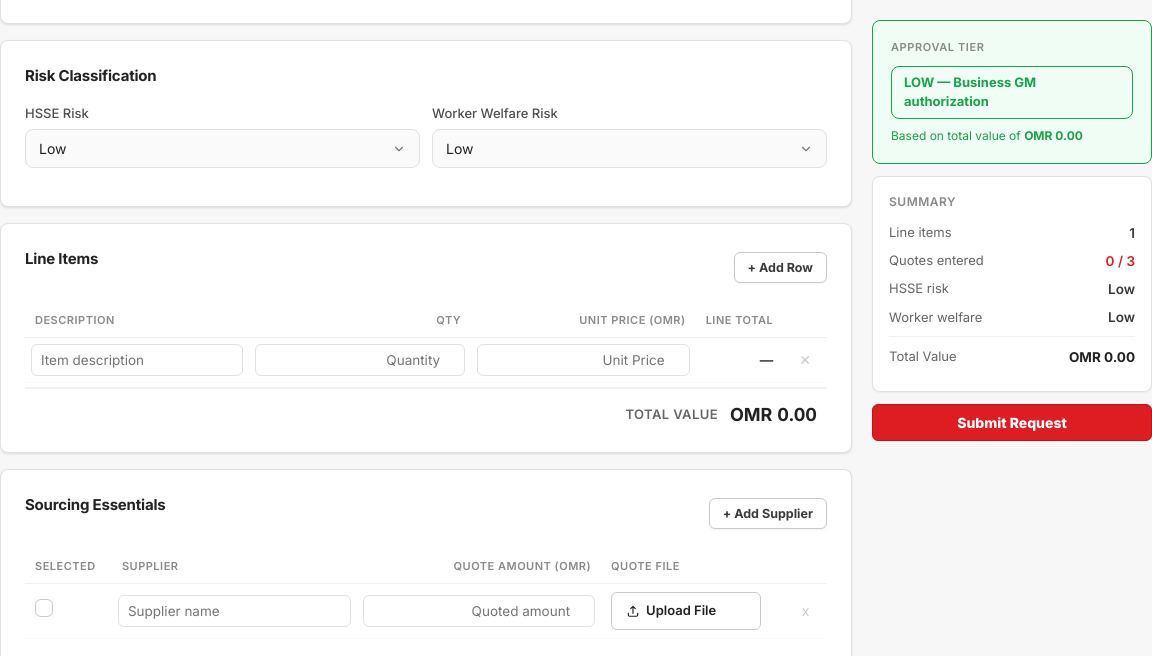
Test: shows HIGH tier badge when total exceeds 300000
The image size is (1152, 656).
(page scrolled)
Type "1" into the number field with placeholder "Quantity" at (360, 360), box [255,344,465,376]
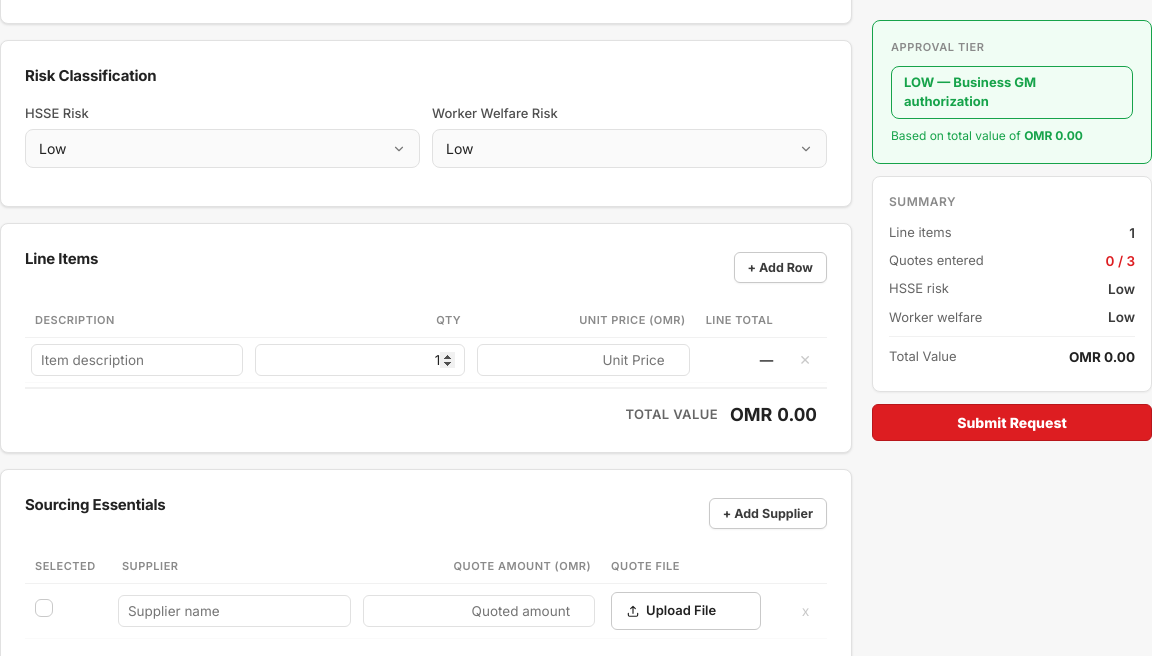
Type "500000" into the number field with placeholder "Unit Price" at (583, 360), box [477,344,690,376]
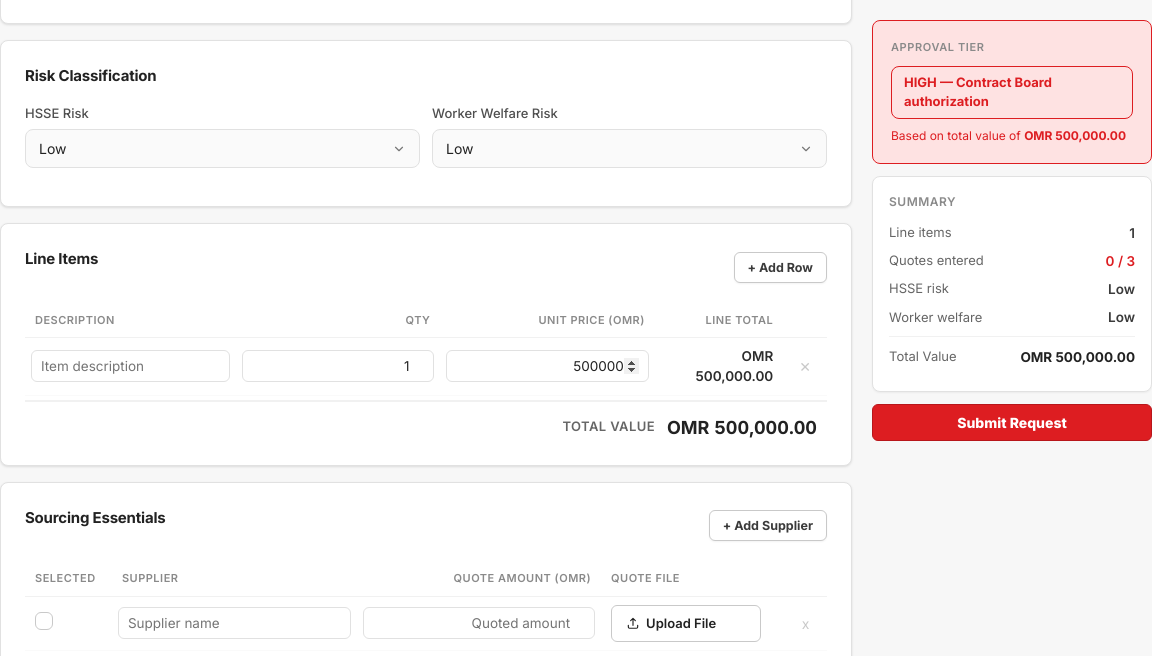
Expected: the text with test id "tier-badge" reads "HIGH — Contract Board authorization", [904,74,1052,109]
